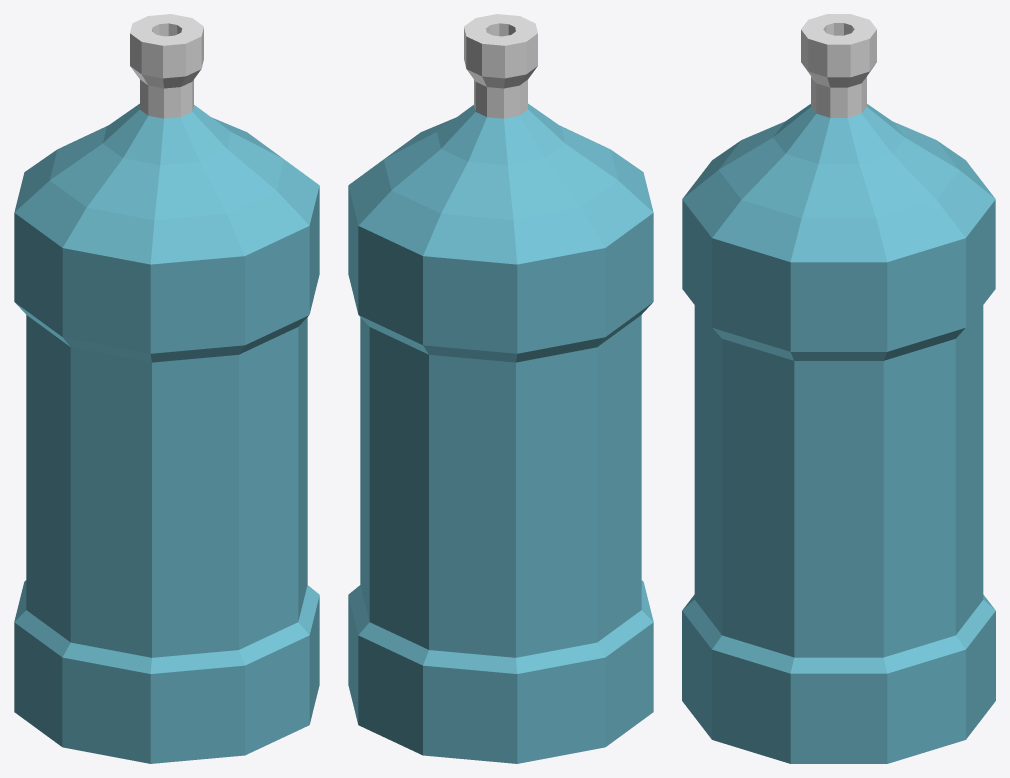
The model's file is big_bottle.fbx.
The picture shows the model from 3 angles, left to right: view 1: azimuth 30°, elevation 25°; view 2: azimuth 150°, elevation 25°; view 3: azimuth 270°, elevation 25°; orthographic projection.
Visible parts, largest first — view 1: Cylinder; view 2: Cylinder; view 3: Cylinder.
Part boxes in pixels (x1,y1,x2,y2): Cylinder: [14, 14, 319, 763]; Cylinder: [348, 14, 653, 763]; Cylinder: [682, 14, 995, 763].
Bounding box in the file's own units: 1.9 × 4.72 × 2.
